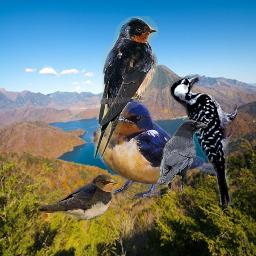Crow: (156, 120, 208, 194)
Swallow: (89, 99, 221, 200), (91, 16, 158, 159), (38, 173, 118, 224)
Woodpecker: (169, 73, 237, 205)
